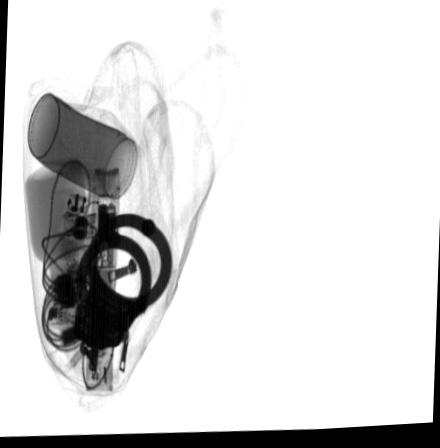Baton: (83, 168, 120, 394)
HandCuffs: (70, 203, 172, 354)
